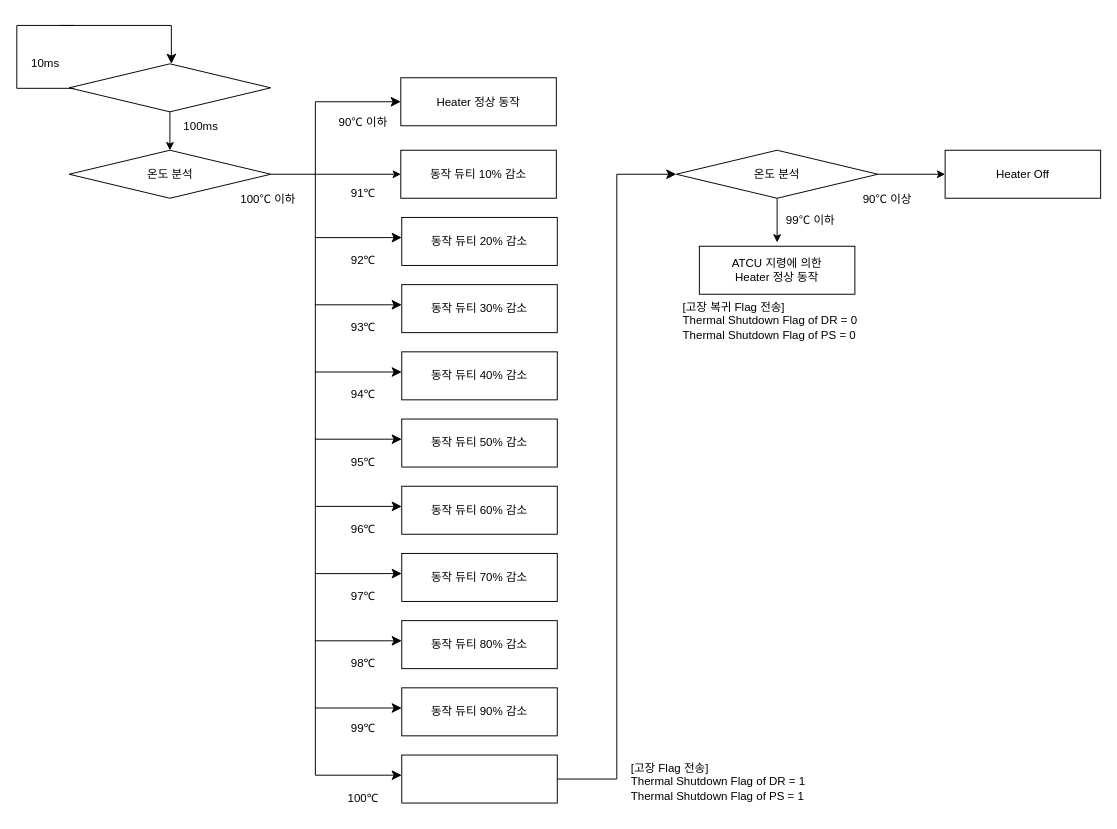
The diagram is 1117 pixels wide and 829 high, and some of its shapes have lost their labels. The centre of each missing label's shape, as x and y in pixels:
"동작 듀티 90% 감소 Heater Cut Off" goes at pixel 479 778.
"온도 측정" goes at pixel 169 87.
